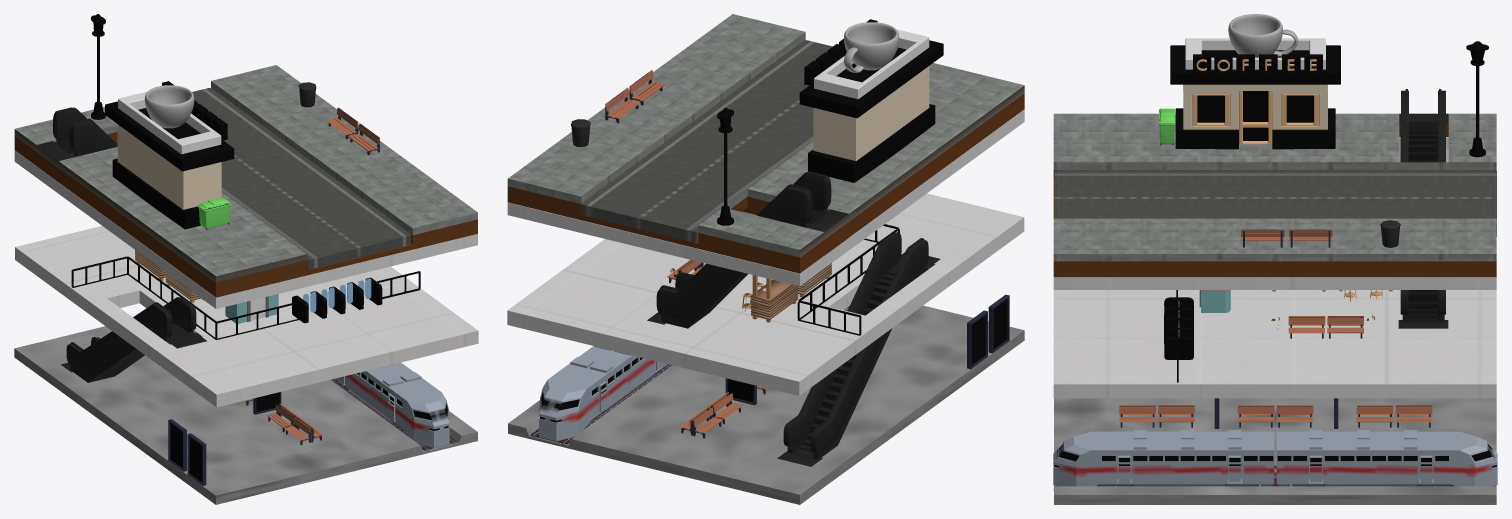
Rendered from DioramaFinal_forWebGPU_UVTEST.obj.
3 views of the same model, side by side, from view 1: azimuth 30°, elevation 25°; view 2: azimuth 150°, elevation 25°; view 3: azimuth 270°, elevation 25° (orthographic). The views are drawn at different scales.
Parts seen in each view (by area): view 1: Diorama; view 2: Diorama; view 3: Diorama.
Boxes of the visible parts, box(x1,y1,x2,y2) form: Diorama: box(14, 14, 478, 504); Diorama: box(507, 14, 1024, 504); Diorama: box(1053, 14, 1497, 504).
Size of the model in its own units: 60.13 by 72.63 by 80.28.
